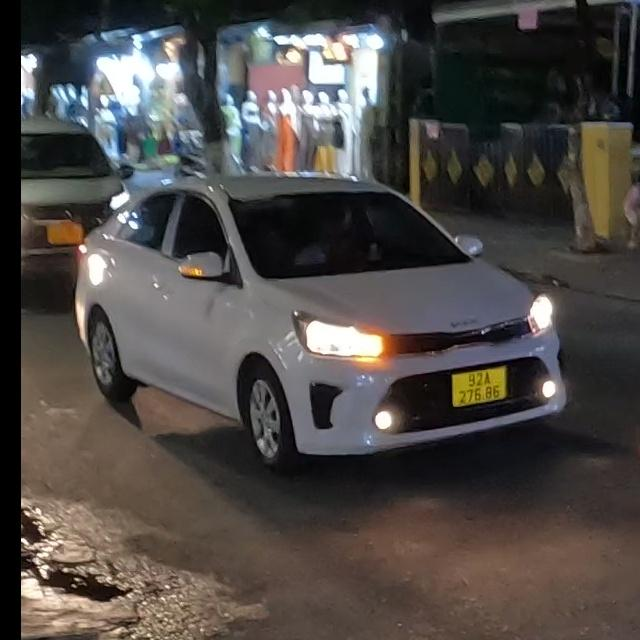license-plate: (450, 365, 509, 409)
